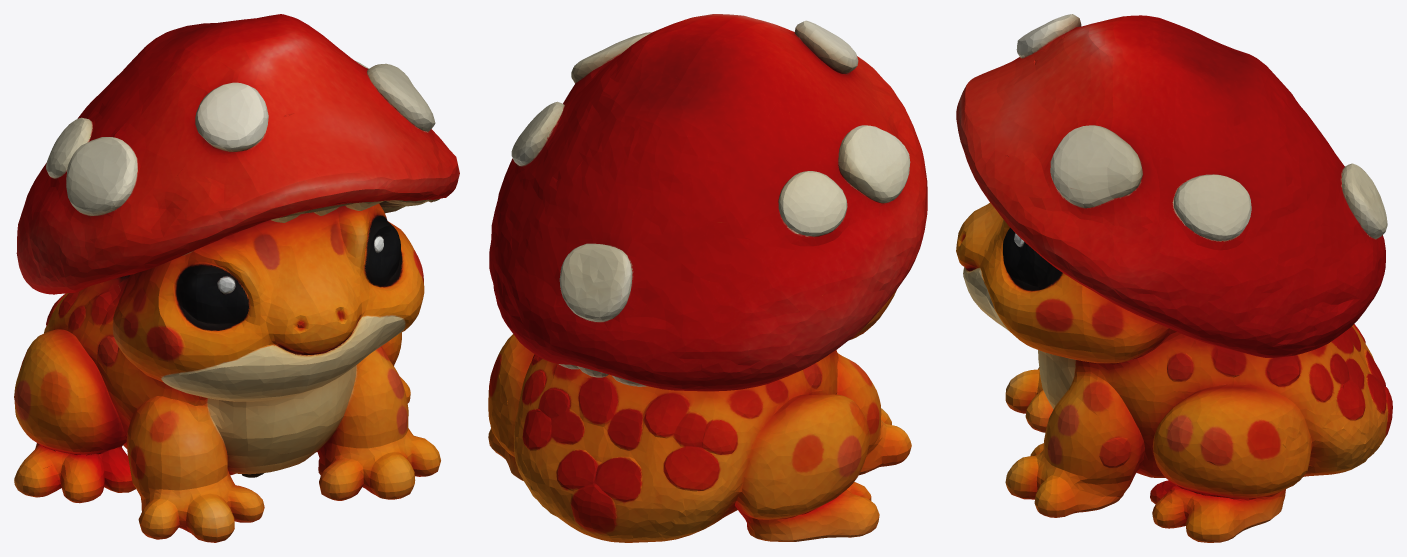
The model's file is toddle_raw.glb.
3 renders of one model, left to right at view 1: azimuth 30°, elevation 25°; view 2: azimuth 150°, elevation 25°; view 3: azimuth 270°, elevation 25°, orthographic. The views are drawn at different scales.
Visible parts, largest first — view 1: world; view 2: world; view 3: world.
Boxes of the visible parts, x1,y1,x2,y2 form: world: [14, 14, 459, 542]; world: [488, 14, 927, 542]; world: [956, 14, 1392, 542].
Size of the model in its own units: 0.9183 by 0.9991 by 0.9283.
1 material, 1 textured.
